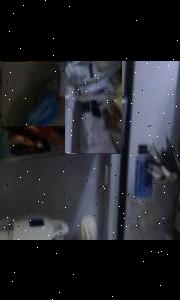Queso: (2, 60, 87, 125), (65, 60, 122, 153)
